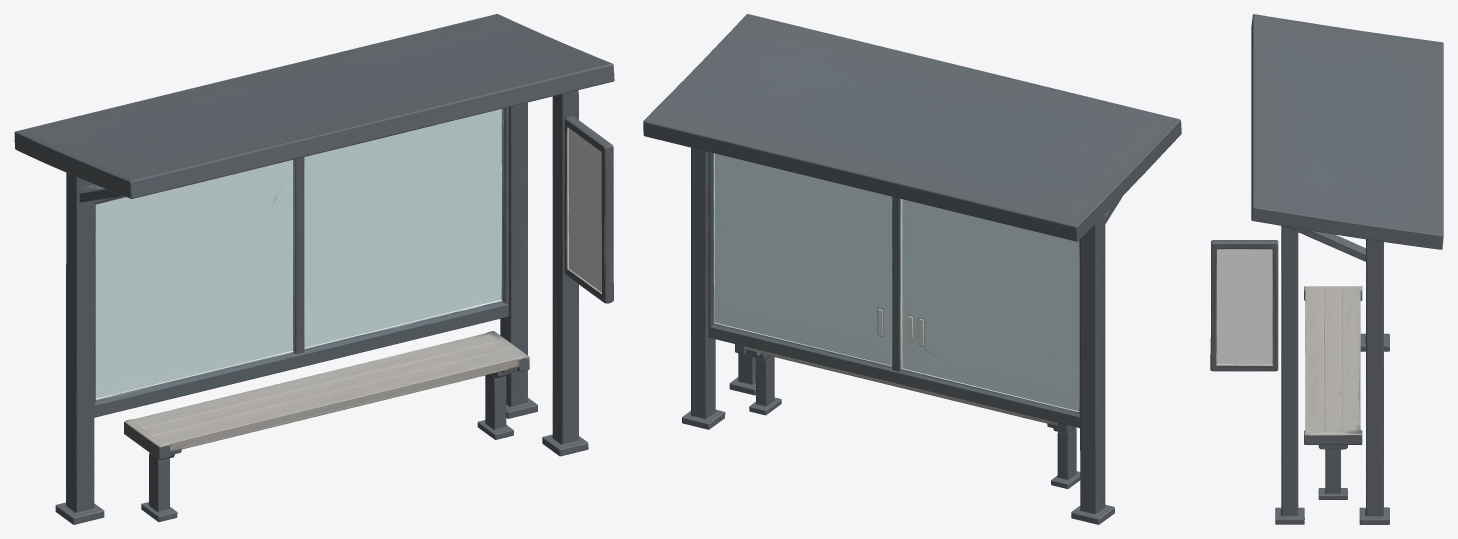
File: bus_stop_shelter.glb
3 renders of one model, left to right at view 1: azimuth 30°, elevation 25°; view 2: azimuth 150°, elevation 25°; view 3: azimuth 270°, elevation 25°, orthographic. The views are drawn at different scales.
Visible parts, largest first — view 1: bus_stop_shelter; view 2: bus_stop_shelter; view 3: bus_stop_shelter.
Part boxes in pixels (bbox=[...]): bus_stop_shelter: bbox=[14, 14, 614, 524]; bus_stop_shelter: bbox=[643, 14, 1181, 524]; bus_stop_shelter: bbox=[1210, 14, 1443, 524].
Bounding box in the file's own units: 3.35 × 2.6 × 1.71.
Materials: 1 (1 with a texture image).
